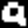a: (0, 0, 28, 28)
